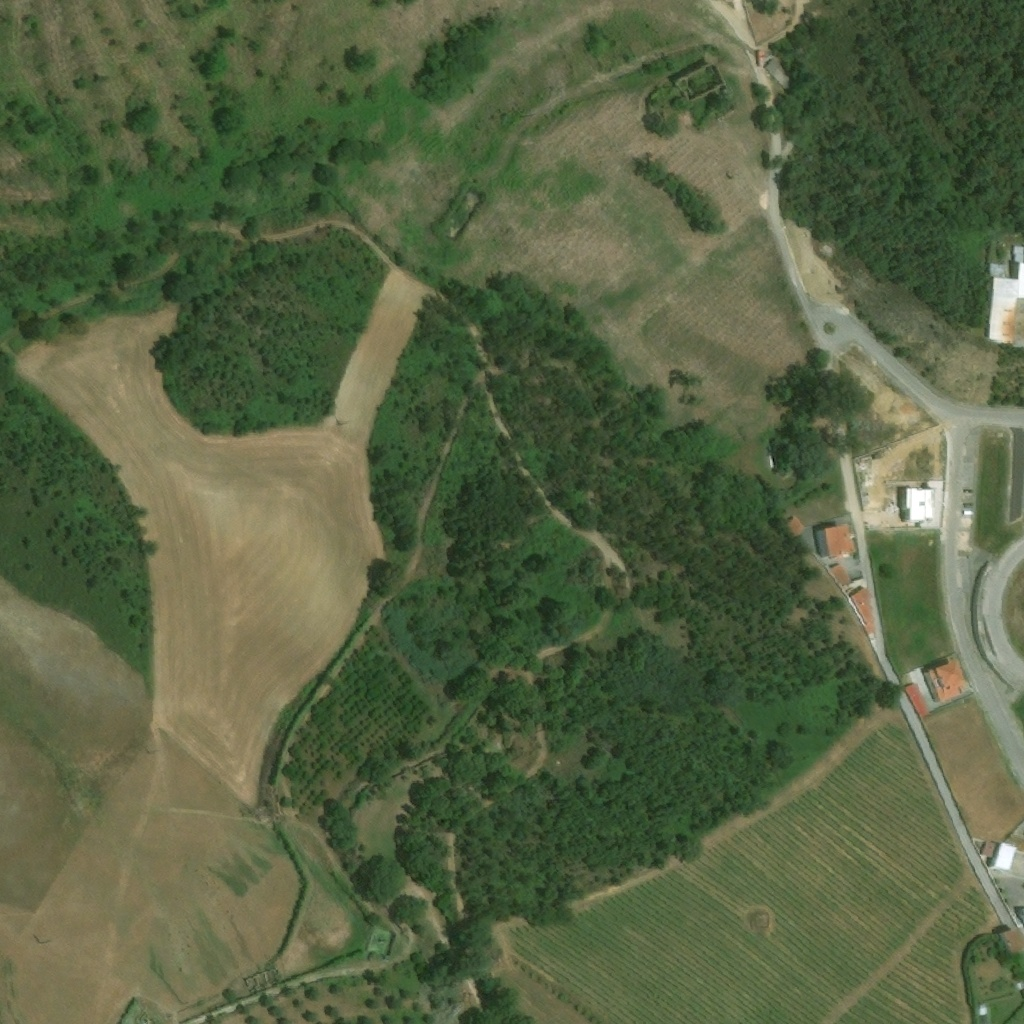0 no-damage: (985, 246, 1023, 347), (897, 481, 944, 531), (923, 658, 971, 702), (813, 523, 855, 560), (850, 587, 876, 635), (761, 56, 796, 89), (981, 840, 1017, 871), (903, 683, 930, 719), (828, 563, 851, 586), (1003, 928, 1023, 952), (785, 515, 805, 537), (989, 259, 1005, 274), (978, 1002, 990, 1018)
4 un-classified: (1008, 428, 1023, 525), (1014, 907, 1023, 924)
